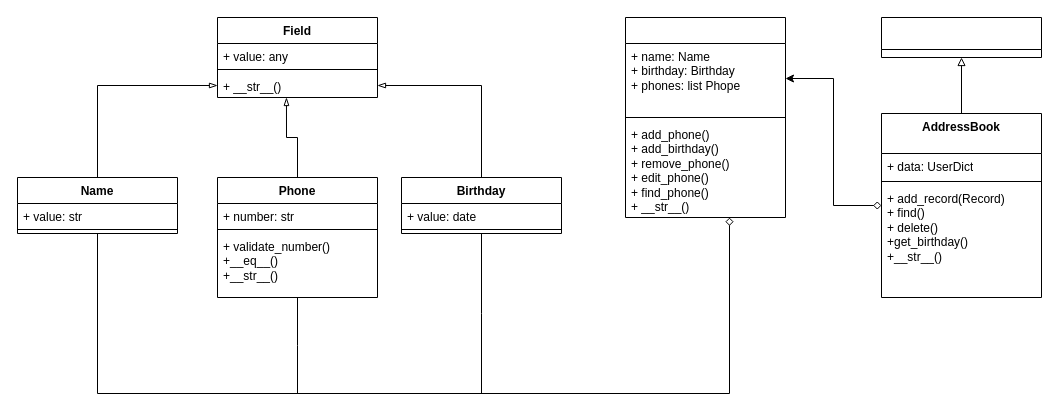
This 1059x419 diagram has some shape labels left out. Each missing label, with the box of its shape:
Record: (624, 16, 786, 218)
UserDict: (880, 16, 1042, 58)
